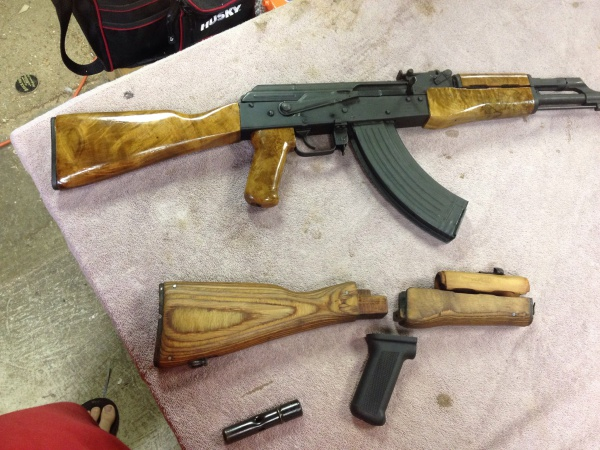ak47: (52, 67, 600, 239)
